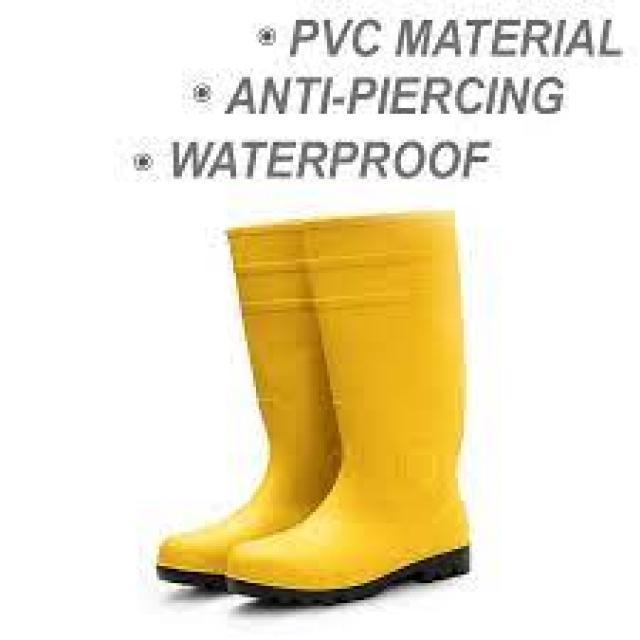shoes: (158, 212, 468, 602)
